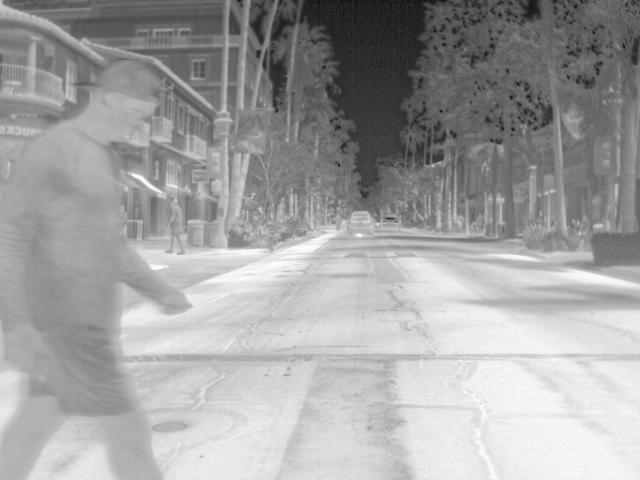car: (347, 209, 374, 235), (376, 214, 402, 232)
person: (1, 60, 195, 479), (166, 195, 188, 255), (577, 215, 592, 237)
